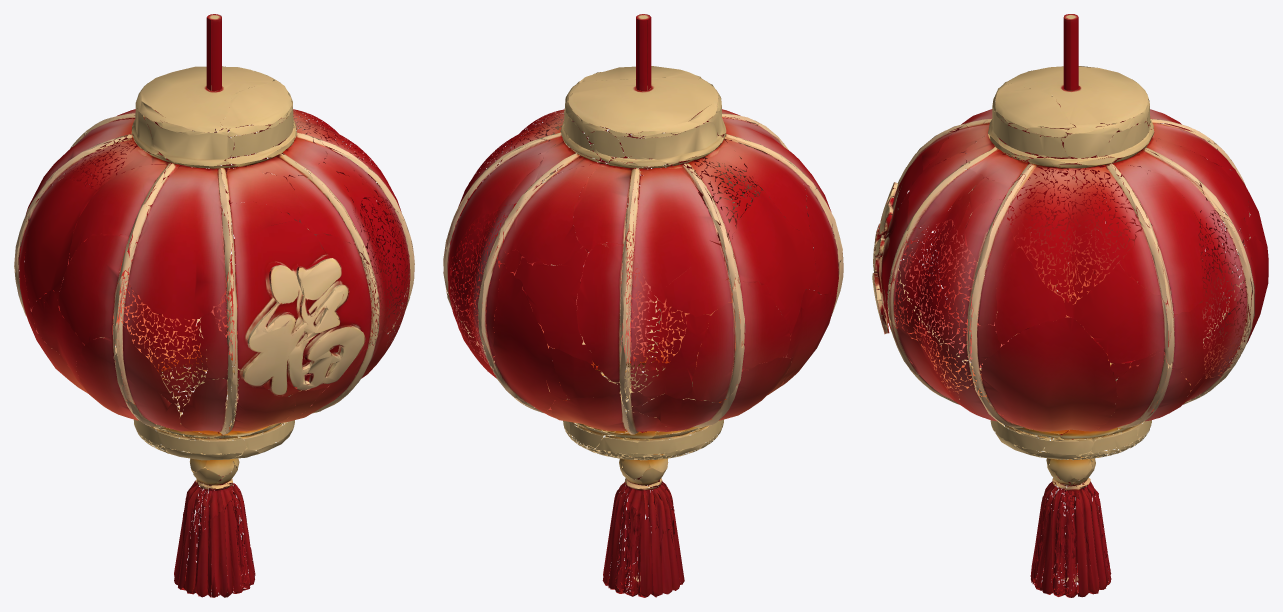
Rendered from lantern.glb.
3 views of the same model, side by side, from view 1: azimuth 30°, elevation 25°; view 2: azimuth 150°, elevation 25°; view 3: azimuth 270°, elevation 25° (orthographic).
Visible parts, largest first — view 1: node_0; view 2: node_0; view 3: node_0.
Part boxes in pixels (<box>): node_0: <box>14,14,414,597</box>; node_0: <box>443,14,843,597</box>; node_0: <box>872,14,1268,597</box>.
Size of the model in its own units: 0.7358 by 1.19 by 0.7576.
1 material, 1 textured.
